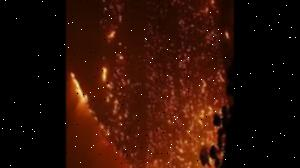fire: (69, 63, 234, 168)
